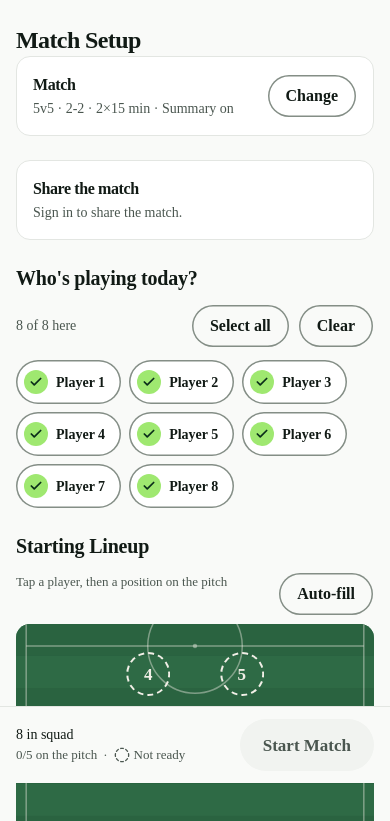
MatchSetupManager attendance and preselection (U9) › returns focus to Start when starting fails before any request (C1-F2)
Expected: the heading "Who's playing today?" is shown, [16,267,198,289]
Click the button "Auto-fill" at (326, 594), box [278,572,374,616]
(page scrolled)
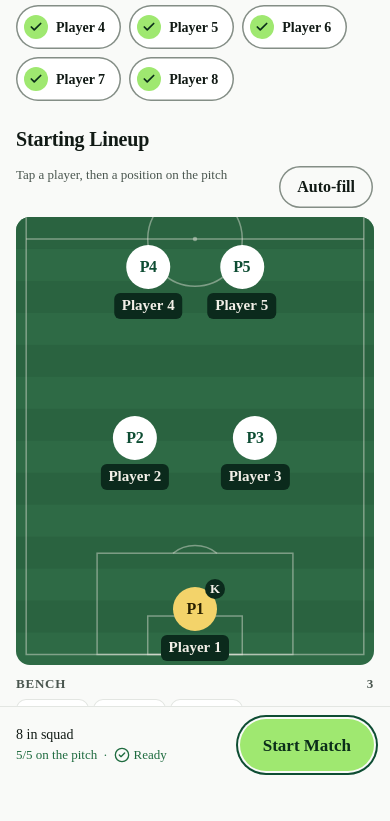
Now the button "Start Match" is enabled
Click the button "Start Match" at (307, 745), box [240,719,374,771]
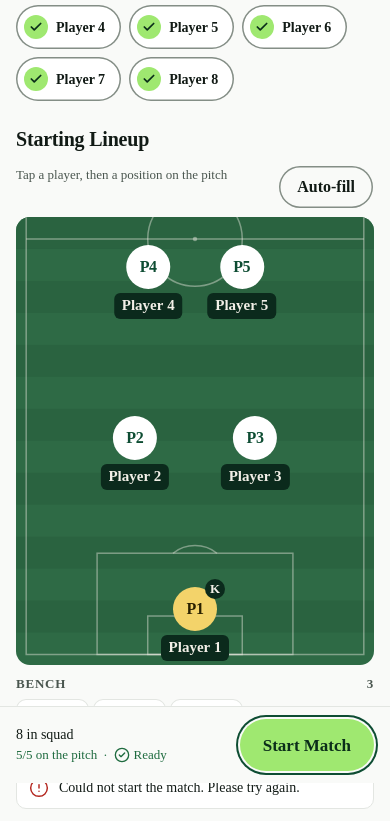
Now the text "Could not start the match. Please try again." is shown, box [59,780,300,795]
